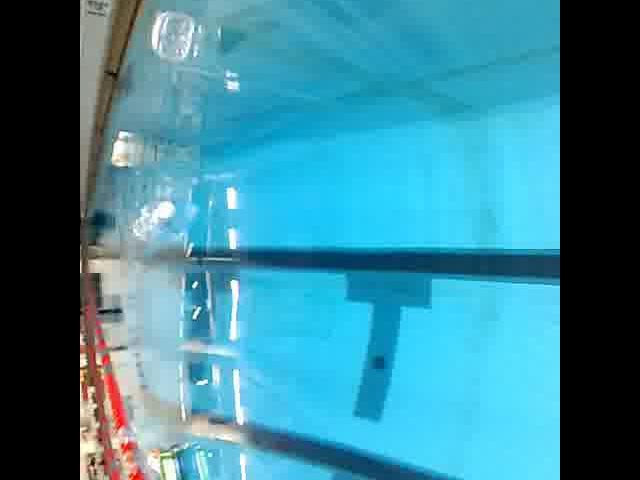Bottle: (142, 2, 198, 66), (128, 194, 178, 244), (108, 121, 134, 173), (142, 446, 166, 473)
Can: (153, 442, 195, 480)
